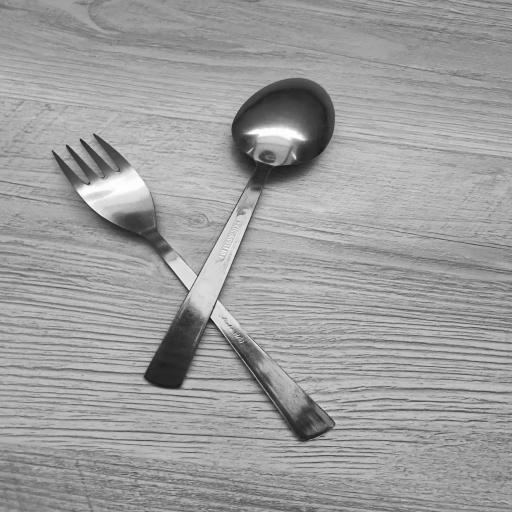fork: (52, 132, 338, 448)
spoon: (141, 74, 341, 394)
